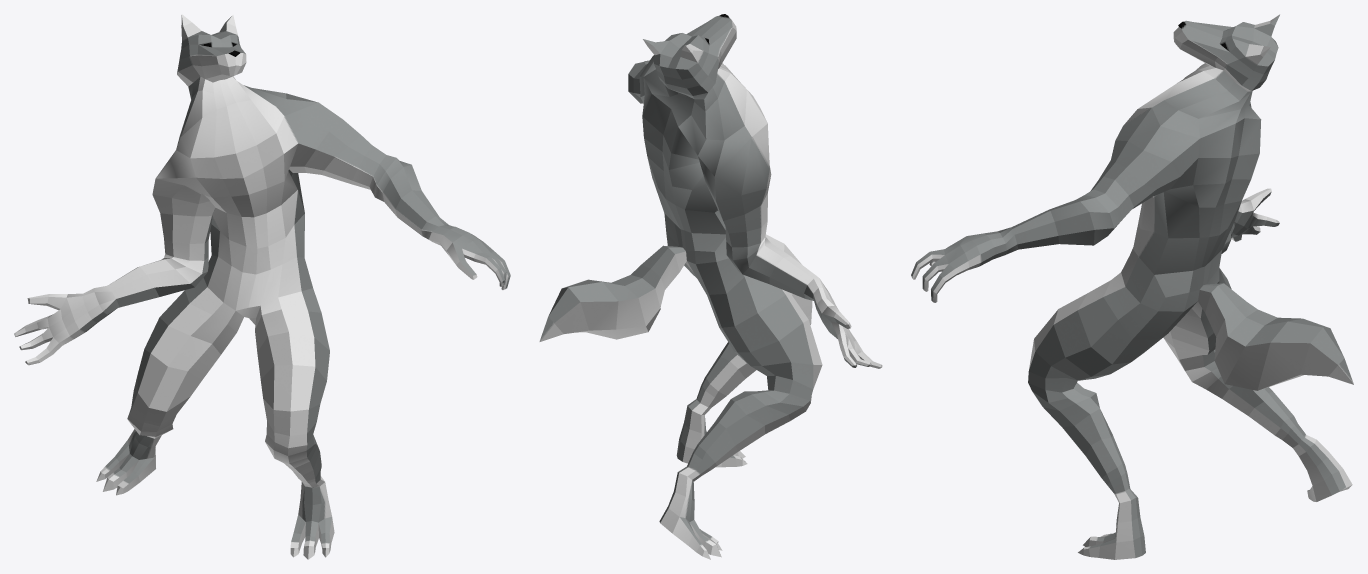
Rendered from WolfDead(10).obj.
3 renders of one model, left to right at view 1: azimuth 30°, elevation 25°; view 2: azimuth 150°, elevation 25°; view 3: azimuth 270°, elevation 25°, orthographic. The views are drawn at different scales.
Parts seen in each view (by area): view 1: Box001; view 2: Box001; view 3: Box001.
Boxes of the visible parts, box(x1,y1,x2,y2) form: Box001: box(14, 14, 510, 559); Box001: box(539, 14, 882, 559); Box001: box(911, 14, 1353, 559).
Bounding box in the file's own units: 105 × 142 × 111.
